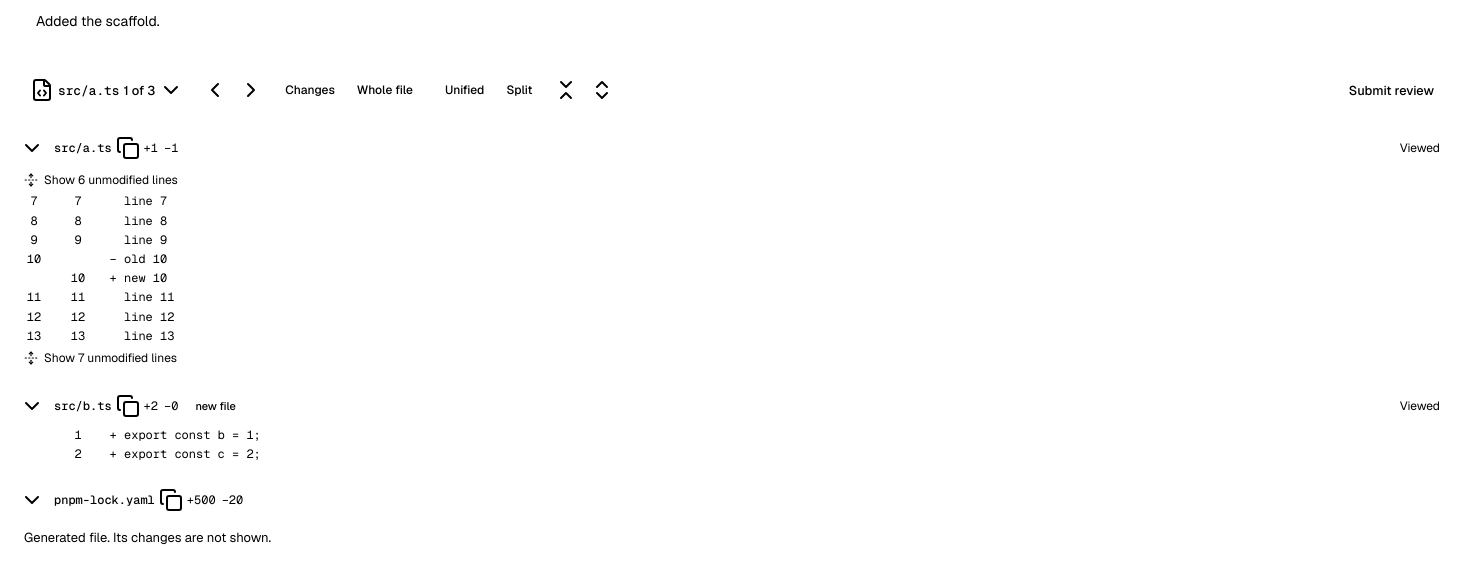
a file collapses and expands from its header
Step 1. Click the button named "Collapse src/a.ts" → (32, 148), box [20,136,44,160]
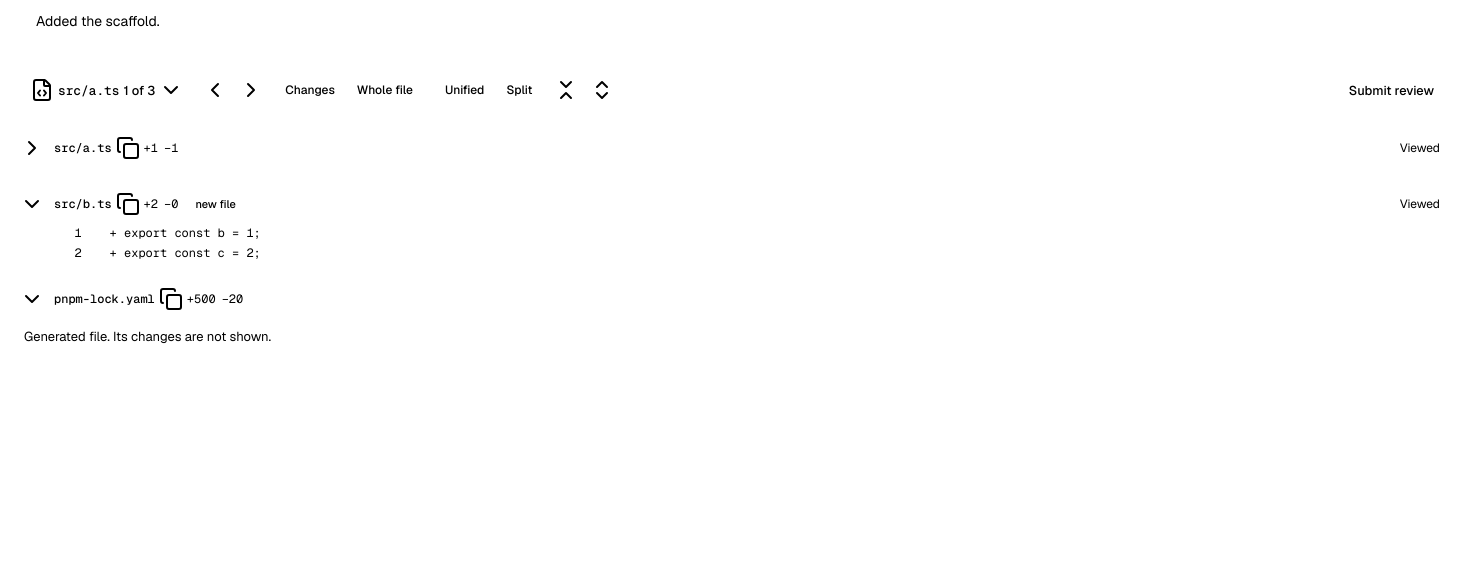
Now the text "new 10" is gone
Step 2. Click the button named "Expand src/a.ts" → (32, 148), box [20,136,44,160]
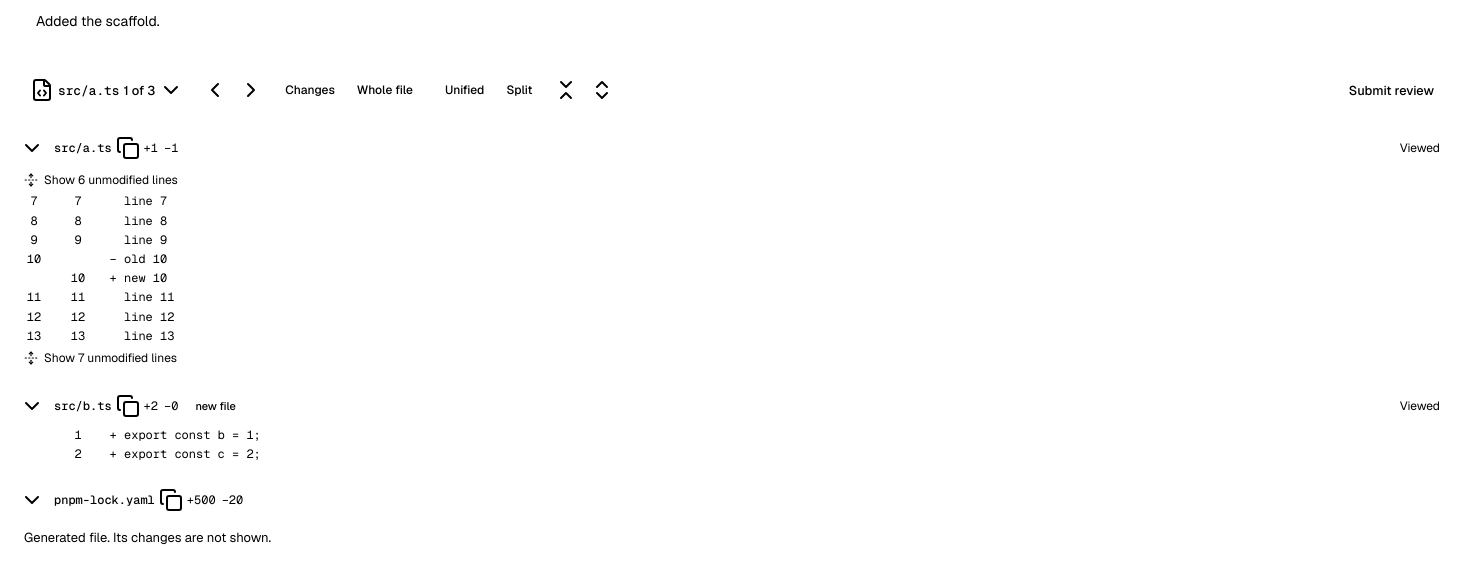
Now the text "new 10" is shown, box [120,269,1452,288]
